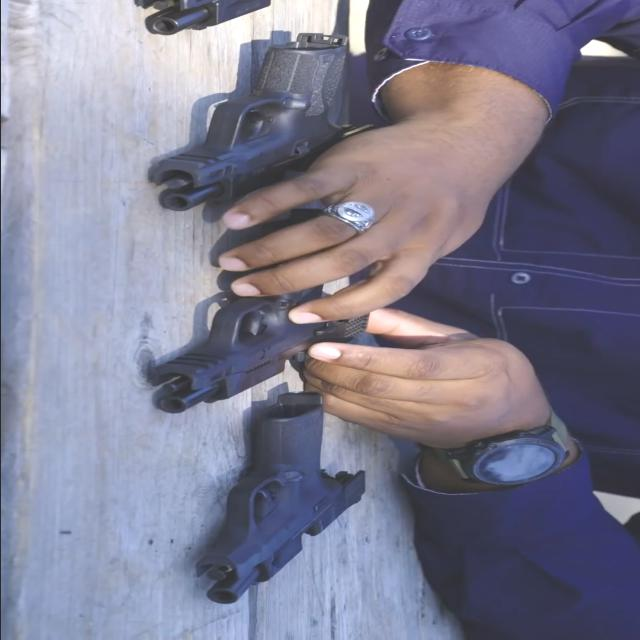handgun: (132, 246, 410, 422), (137, 21, 366, 234), (174, 389, 384, 601)
